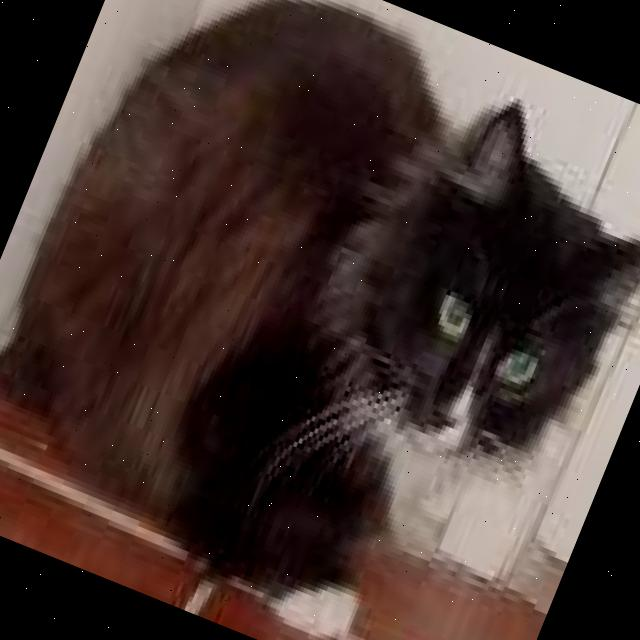cat-eye-normal: (416, 272, 489, 359), (479, 326, 556, 408)
